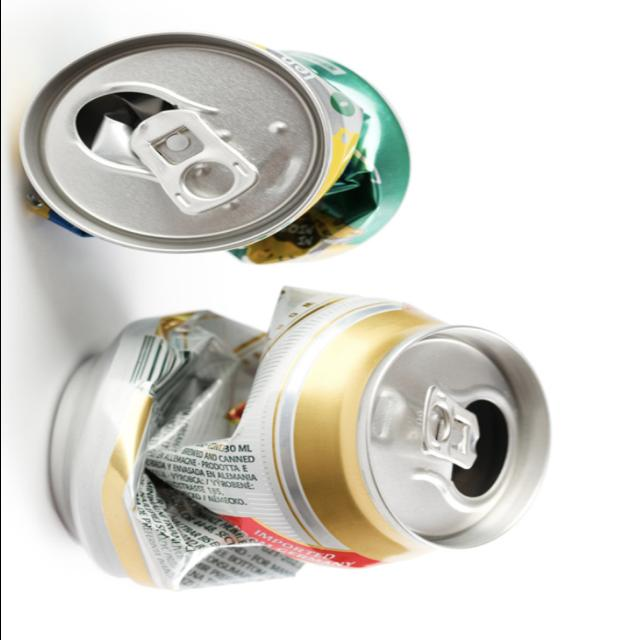can: (48, 288, 580, 590), (2, 27, 433, 279)
